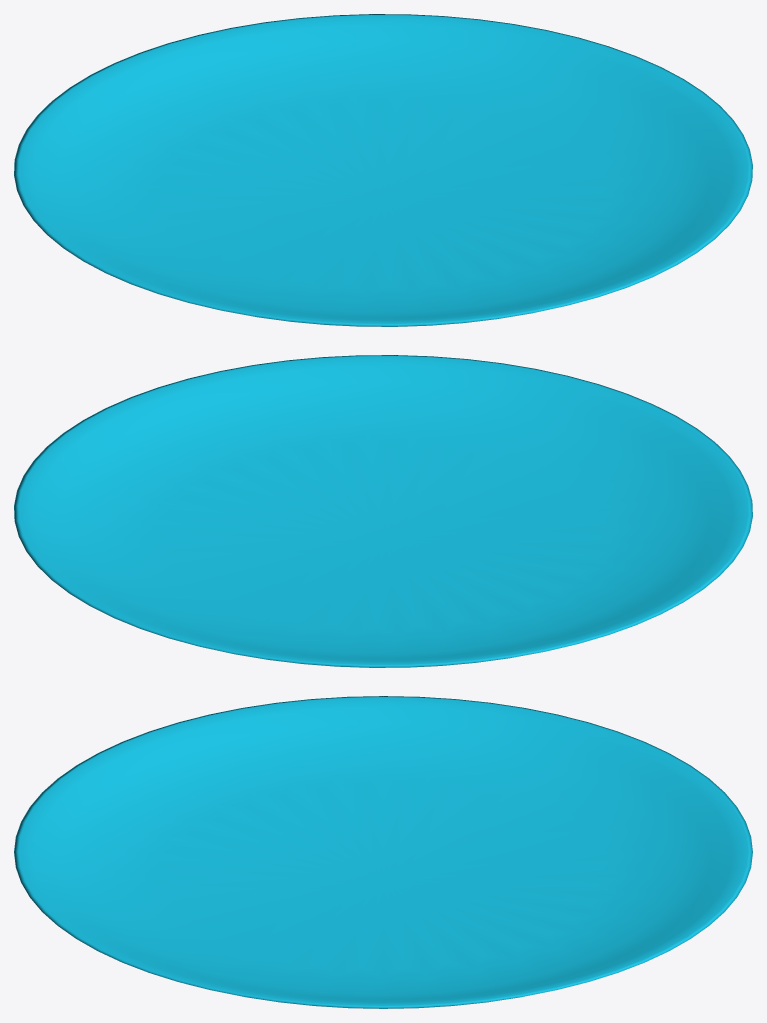
Rendered from plate.fbx.
3 renders of one model, top to bottom at view 1: azimuth 30°, elevation 25°; view 2: azimuth 150°, elevation 25°; view 3: azimuth 270°, elevation 25°, orthographic.
Visible parts, largest first — view 1: お皿; view 2: お皿; view 3: お皿.
Part boxes in pixels (x1,y1,x2,y2): お皿: [14, 14, 752, 326]; お皿: [14, 355, 752, 667]; お皿: [14, 696, 752, 1008].
Size of the model in its own units: 335 by 16.17 by 335.
